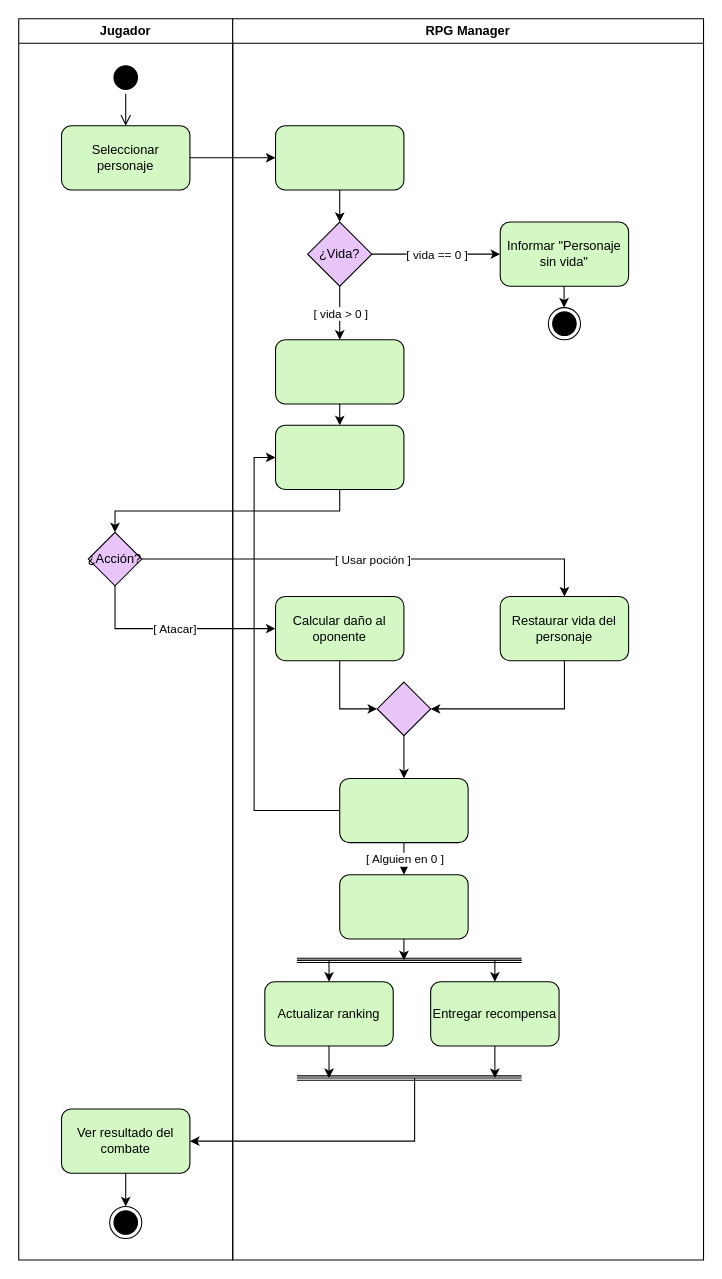
Some shapes in this 722 by 1279 pixel diagram are drawn without their labels. The shapes that lost their labels are listed below. From the top down, each one's centre as x and y in pixels, then its label:
At (x=339, y=157): "Validar personaje vivo".
At (x=339, y=371): "Asignar oponente (monstruo)".
At (x=339, y=457): "Iniciar ronda".
At (x=403, y=810): "Ejecutar turno del oponente".
At (x=403, y=906): "Determinar ganador".
